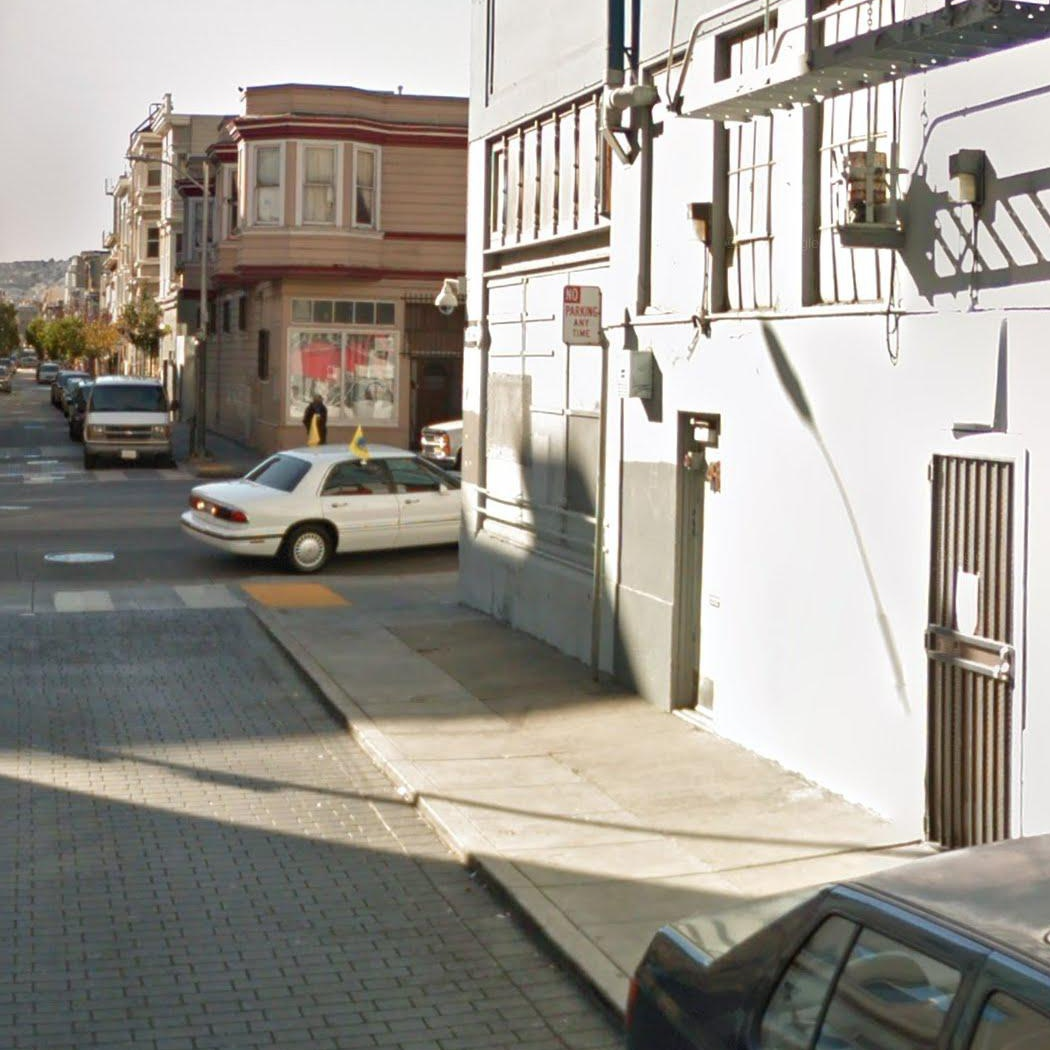No Parking Anytime: (561, 284, 603, 348)
